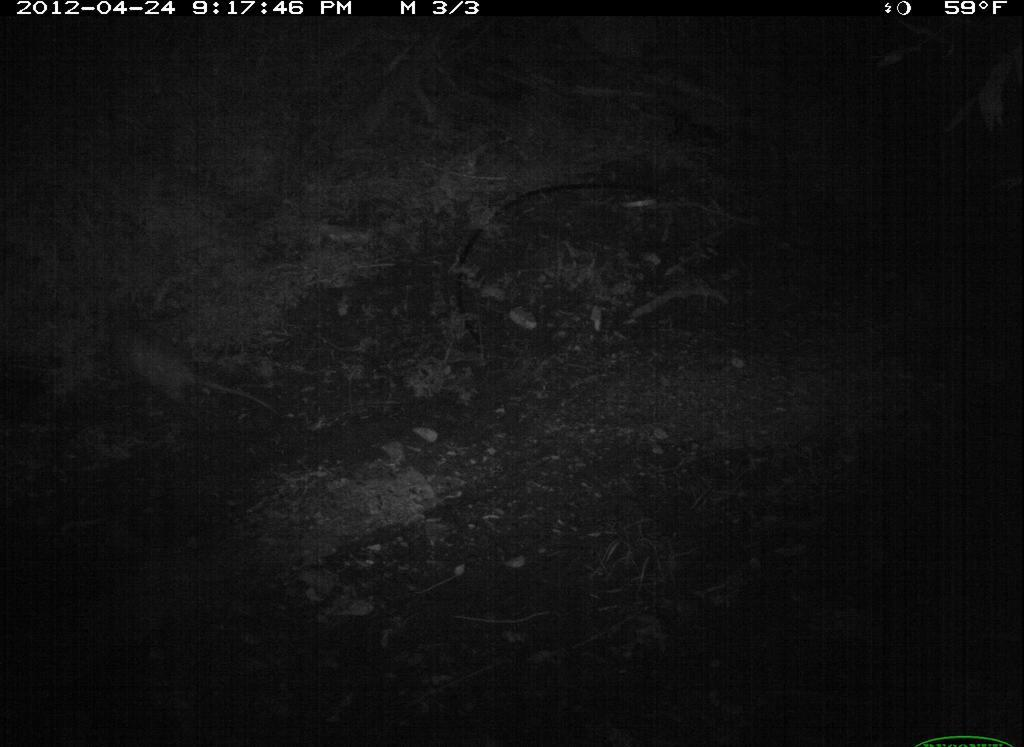opossum: (93, 305, 291, 442)
